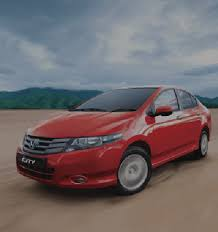Honda: (13, 87, 210, 194)
